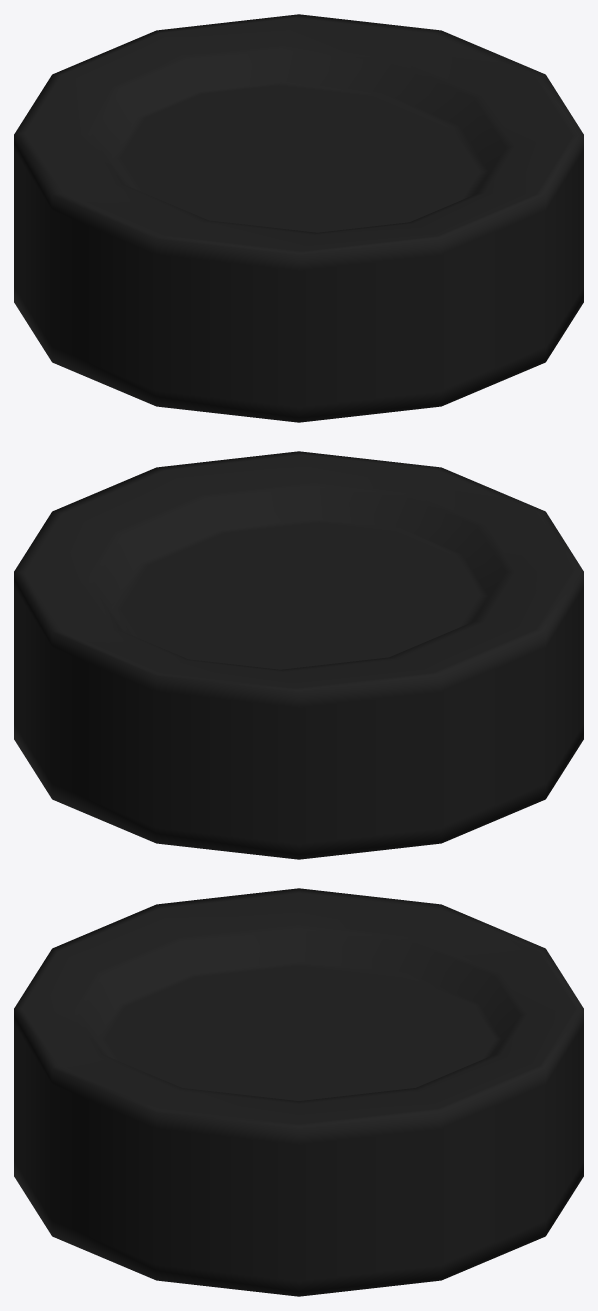
Rendered from FatWheel.obj.
3 views of the same model, one above another, from view 1: azimuth 30°, elevation 25°; view 2: azimuth 150°, elevation 25°; view 3: azimuth 270°, elevation 25° (orthographic).
Visible parts, largest first — view 1: FatWheelR_Cube.008; view 2: FatWheelR_Cube.008; view 3: FatWheelR_Cube.008.
Boxes of the visible parts, box(x1,y1,x2,y2) form: FatWheelR_Cube.008: box(14, 14, 583, 422); FatWheelR_Cube.008: box(14, 451, 583, 859); FatWheelR_Cube.008: box(14, 888, 583, 1296).
Bounding box in the file's own units: 0.112 × 0.0363 × 0.112.
1 material, 1 textured.
